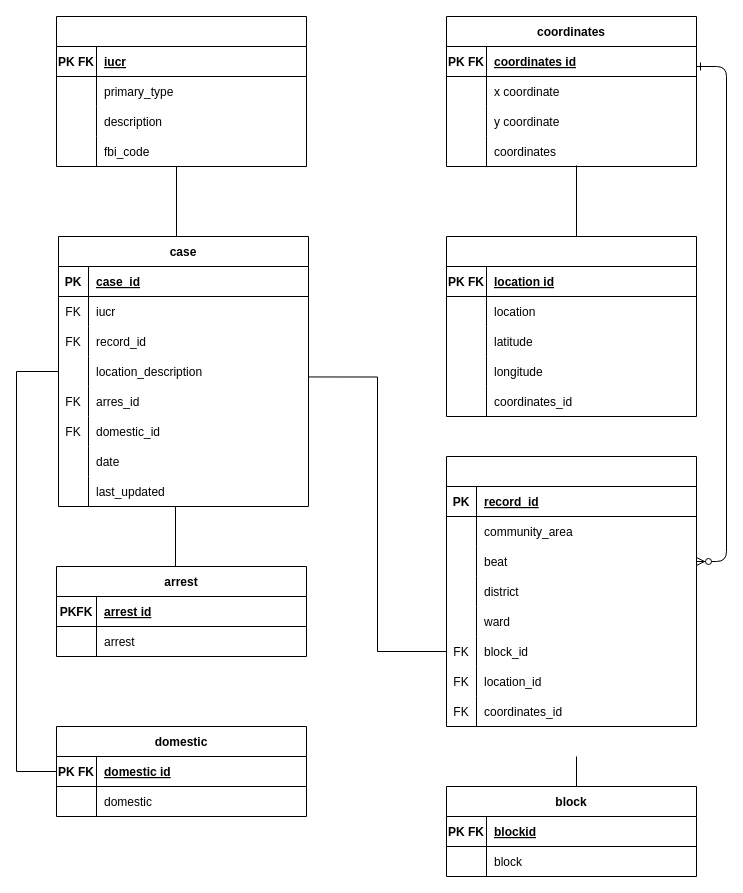
Some shapes in this 743 by 893 pixel diagram are drawn without their labels. The shapes that lost their labels are listed below. From the top down, each one's box as (x1, y1, x2, y2) in pixels, then its label:
(56, 16, 306, 166): crime_code
(446, 236, 696, 416): lat_lon
(446, 456, 696, 726): record_area
